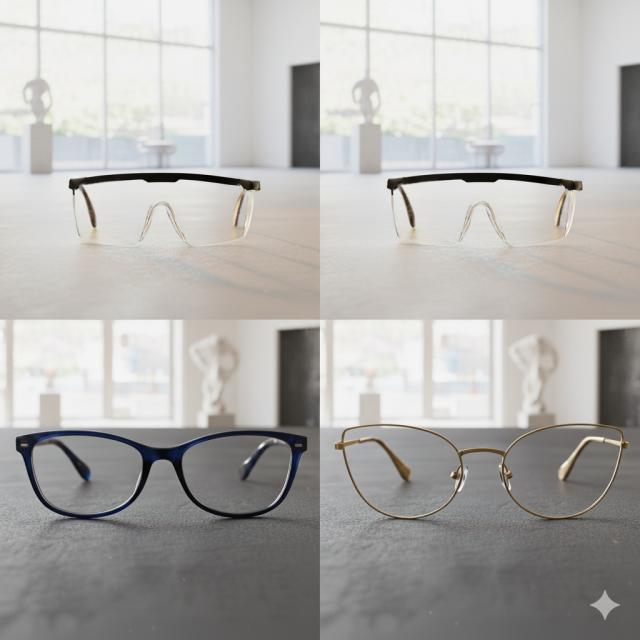oculos-epi: (388, 172, 581, 246), (69, 172, 259, 246)
sem_oculos: (17, 430, 306, 518), (361, 425, 629, 519)
